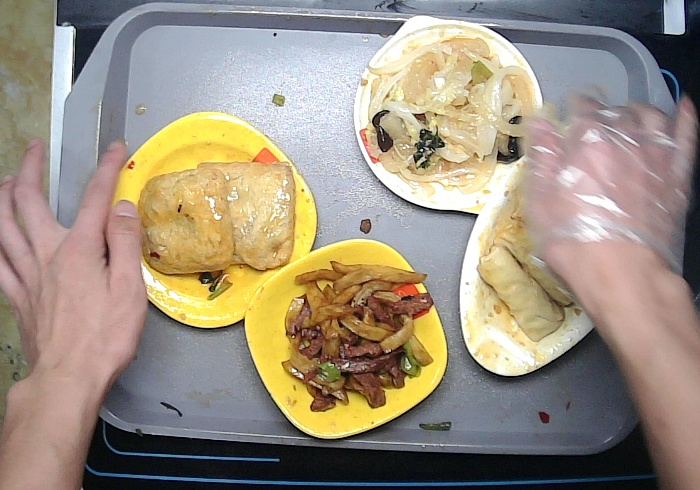SHKJ-Bao_Yu_Pan: (350, 13, 548, 221)
SHKJ-Huang_Se_Cai_Die: (246, 236, 450, 442)
SHKJ-Huang_Se_Si_Fang_Cai_Die: (108, 108, 319, 333)
SHKJ-Yu_Pan: (457, 141, 599, 380)
